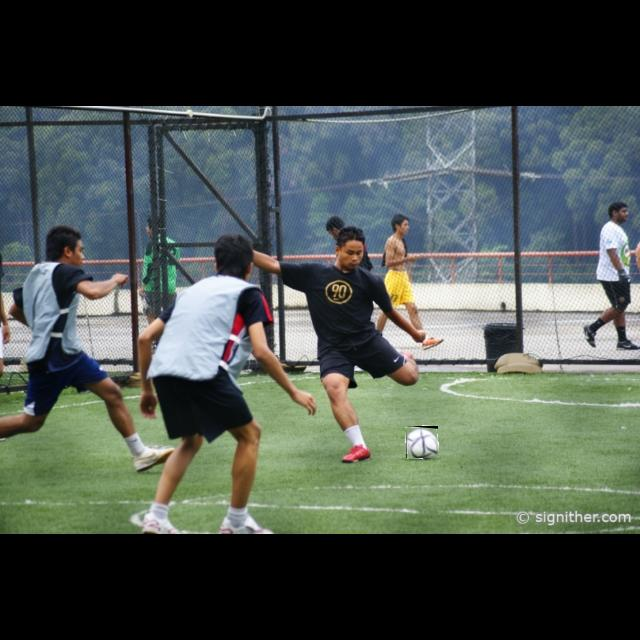Football: (406, 426, 438, 458)
